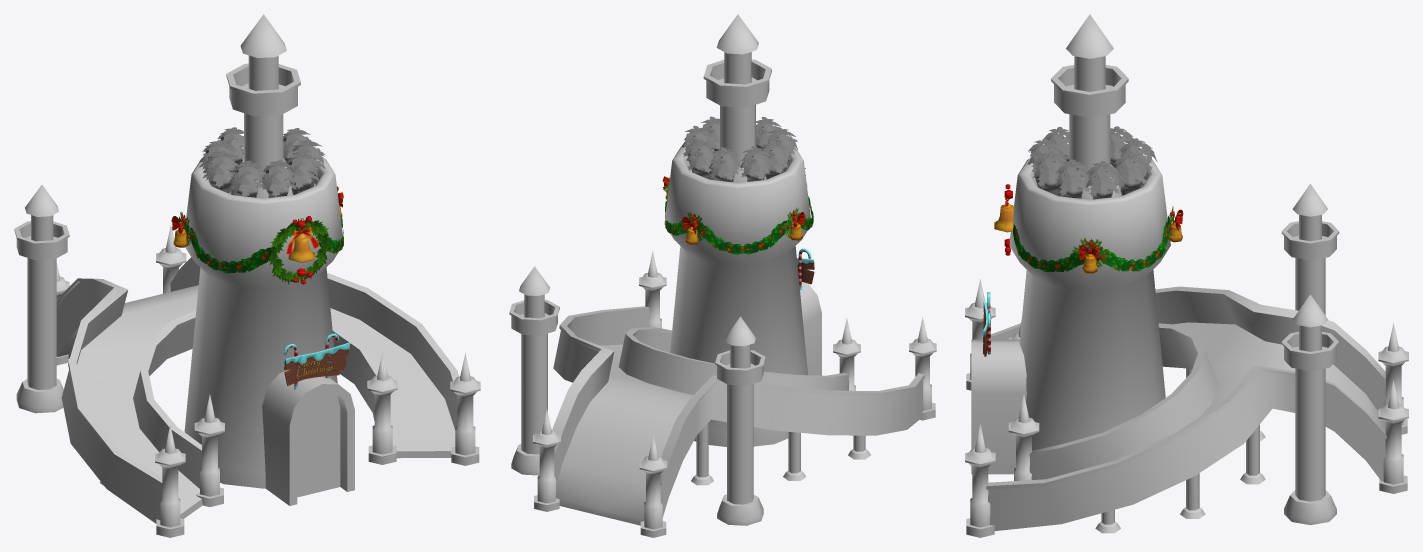
The model's file is Icehill.FBX.
3 renders of one model, left to right at view 1: azimuth 30°, elevation 25°; view 2: azimuth 150°, elevation 25°; view 3: azimuth 270°, elevation 25°, orthographic. The views are drawn at different scales.
Parts seen in each view (by area): view 1: Object371, Line1597, Line1596, 11111, Line1595, Line1588, Line1587, Line1589, Line1593, Object376; view 2: Object371, 11112, Line1593, Line1594, Line1592, Line1595, Object377, Object376, Line1596, Line1587, Line1591; view 3: Object371, Line1592, Line1591, Line1590, 11115, Line1589, 11113, Object378, Line1597, Line1588, Line1594, Line1593.
Boxes of the visible parts, x1,y1,x2,y2 form: Object371: [14, 14, 480, 537]; Line1597: [269, 216, 330, 284]; Line1596: [283, 333, 350, 389]; 11111: [190, 227, 272, 273]; Line1595: [202, 150, 238, 193]; Line1588: [259, 160, 296, 197]; Line1587: [228, 160, 265, 197]; Line1589: [286, 151, 319, 194]; Line1593: [217, 127, 243, 172]; Object376: [171, 211, 192, 247]; Object371: [509, 14, 936, 537]; 11112: [702, 220, 787, 254]; Line1593: [709, 147, 742, 182]; Line1594: [740, 146, 773, 181]; Line1592: [686, 139, 717, 179]; Line1595: [761, 140, 791, 179]; Object377: [681, 212, 707, 244]; Object376: [783, 207, 805, 240]; Line1596: [797, 248, 814, 290]; Line1587: [764, 127, 797, 172]; Line1591: [681, 125, 714, 172]; Object371: [965, 14, 1408, 537]; Line1592: [1112, 151, 1151, 195]; Line1591: [1085, 161, 1124, 199]; Line1590: [1055, 159, 1089, 198]; 11115: [1013, 225, 1092, 271]; Line1589: [1032, 151, 1066, 195]; 11113: [1101, 221, 1168, 271]; Object378: [1072, 238, 1109, 273]; Line1597: [994, 184, 1013, 255]; Line1588: [1027, 138, 1065, 188]; Line1594: [1110, 126, 1135, 169]; Line1593: [1119, 138, 1157, 188].
Bounding box in the file's own units: 552 × 676 × 611.
